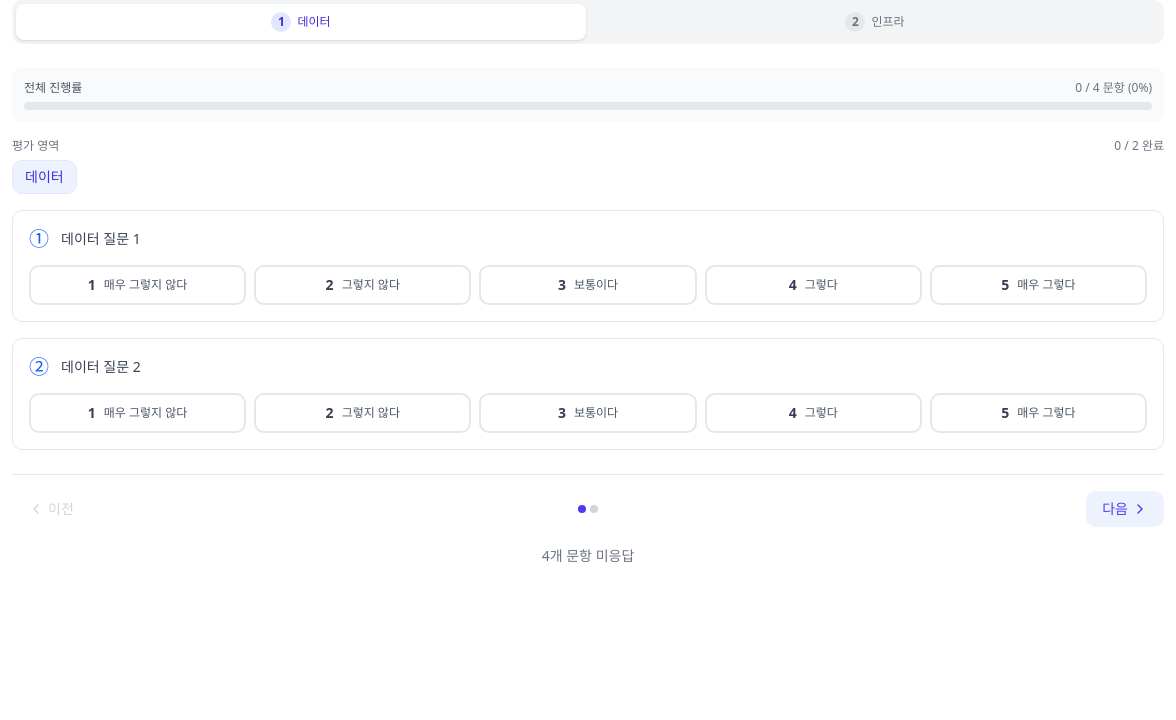
Scenario: SelfAssessmentForm › 스텝 네비게이션 › 모든 질문에 답하면 다음 스텝으로 이동할 수 있다
Click the button "1 매우 그렇지 않다" below "데이터 질문 1". click: (138, 285)
box: [29, 265, 246, 305]
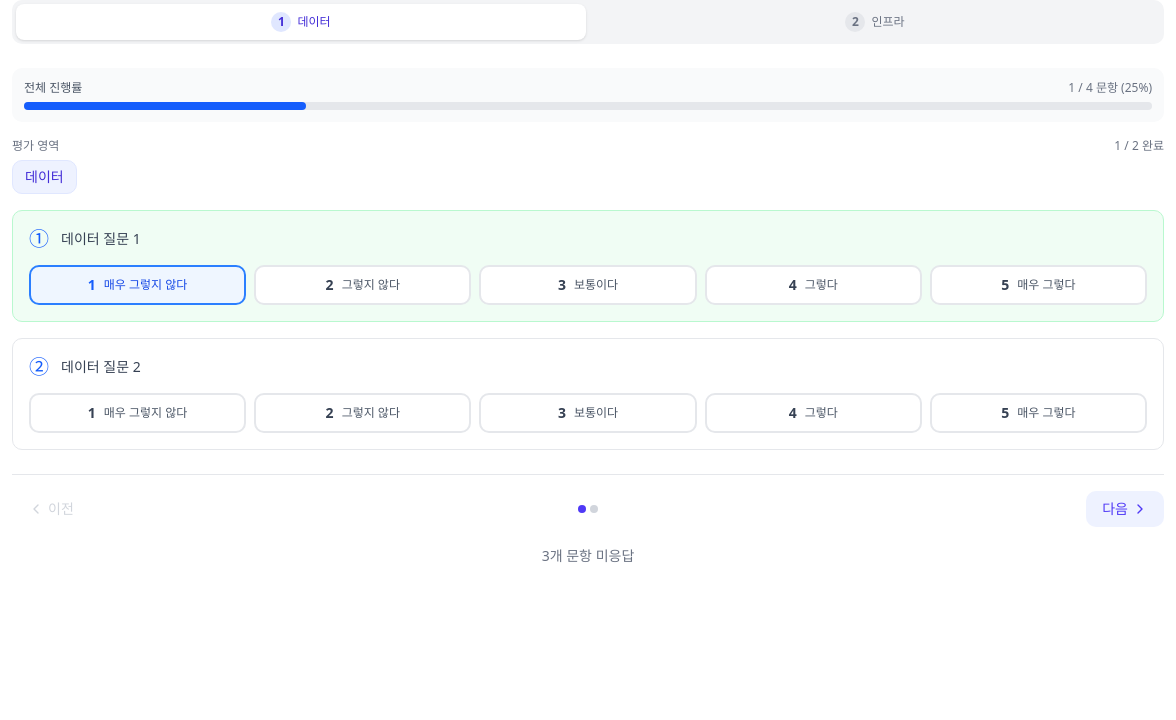
Click the button "1 매우 그렇지 않다" below "데이터 질문 2". click: (138, 413)
box: [29, 393, 246, 433]
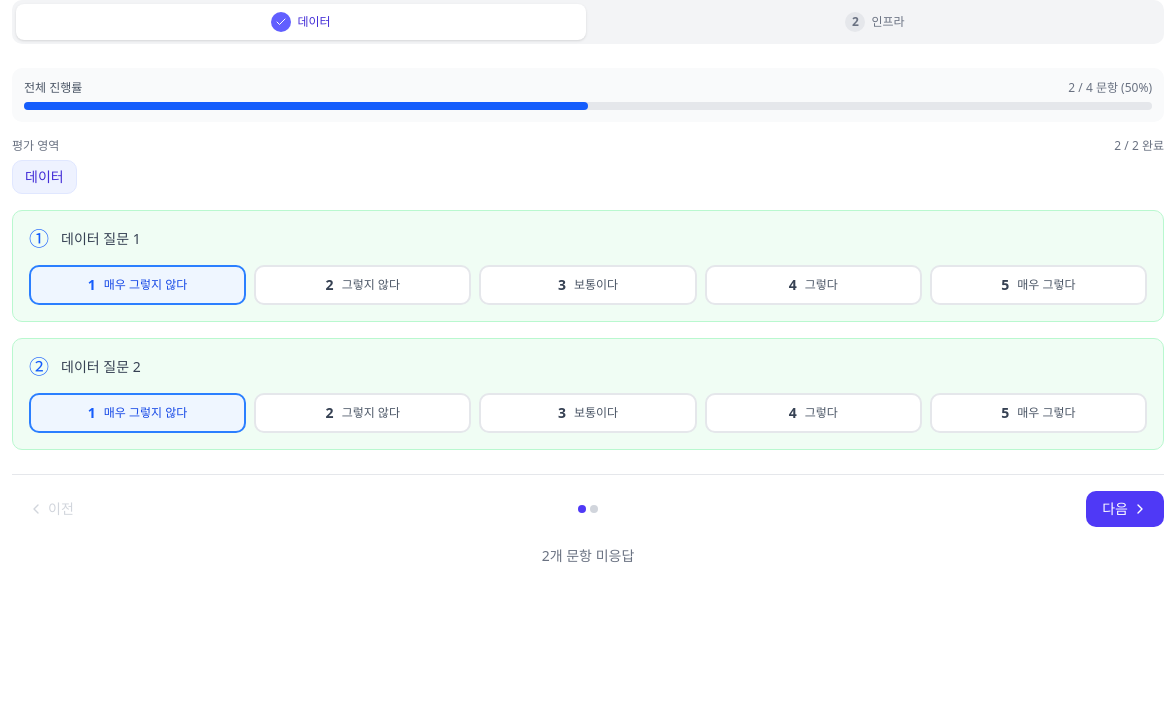
Click the button "다음". click: (1125, 509)
box: [1086, 491, 1164, 527]
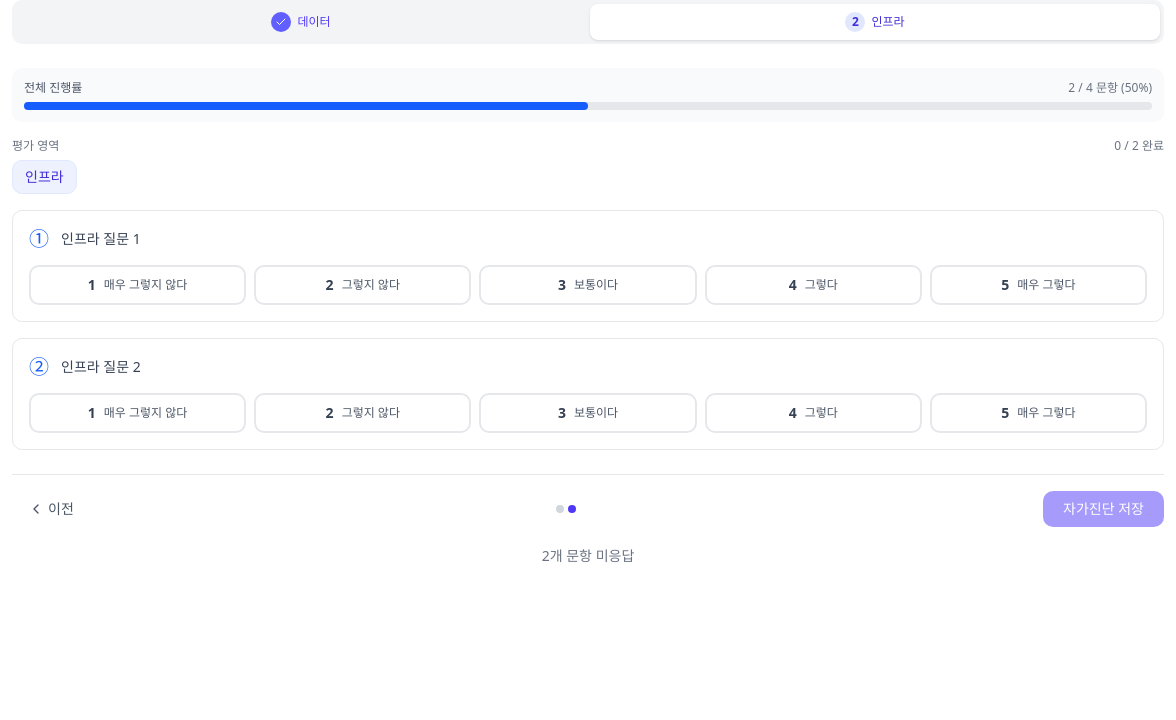
Check: the text "인프라 질문 1" is shown, box [61, 227, 141, 253]
